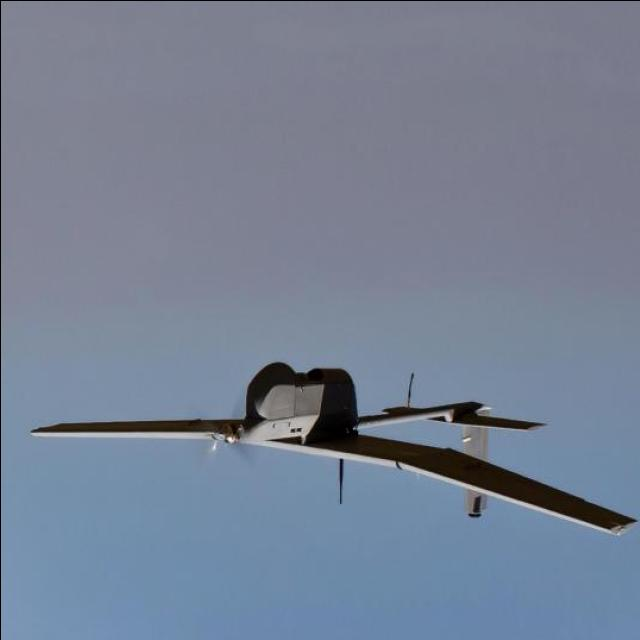plane: (29, 360, 638, 539)
